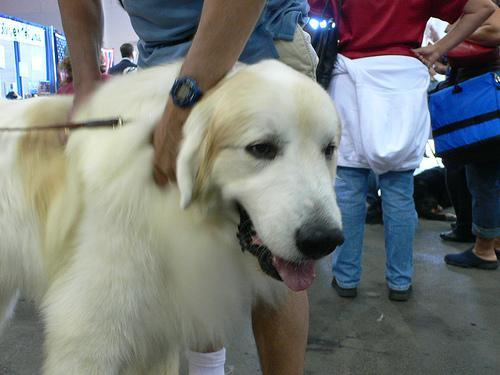Great_Pyrenees: (0, 56, 349, 374)
